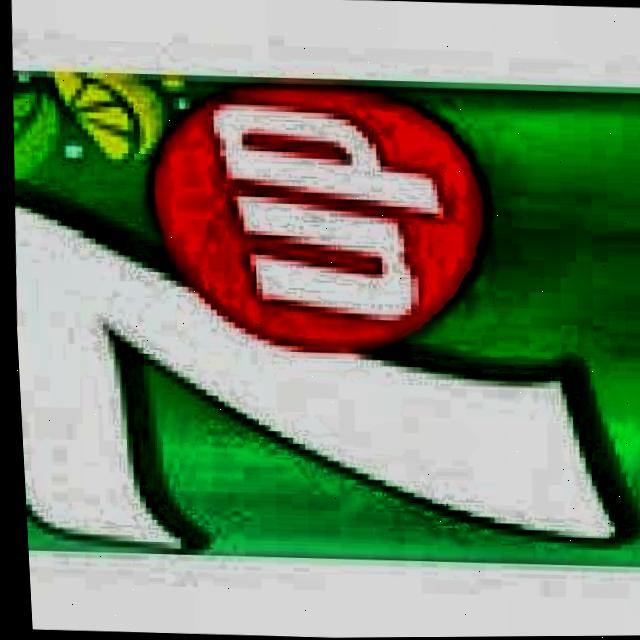metal: (11, 75, 640, 570)
